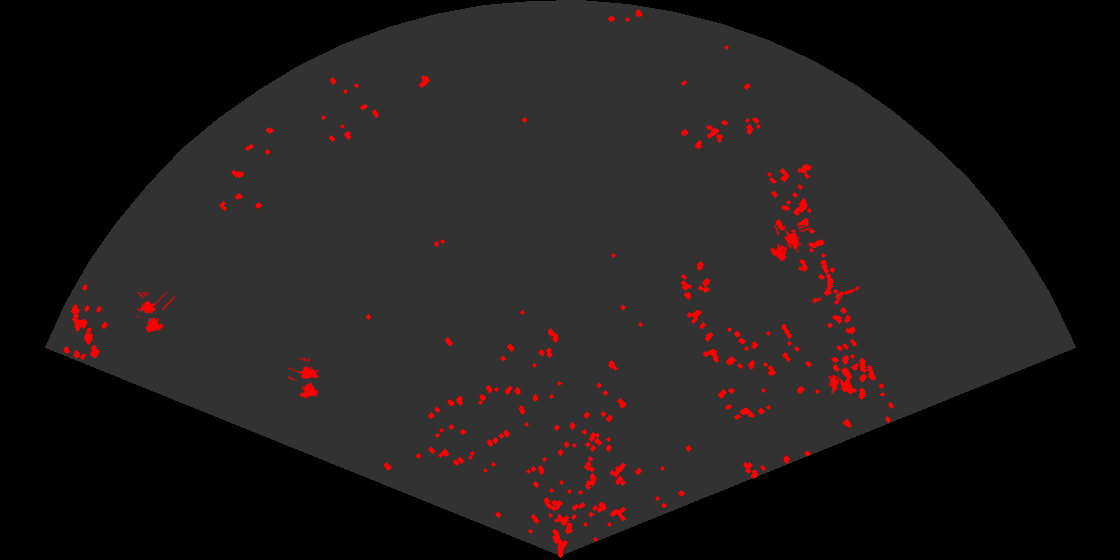AUV: (827, 373, 841, 396)
cage: (135, 292, 175, 334), (768, 225, 811, 263), (288, 358, 321, 400)
chain: (810, 284, 862, 305)
